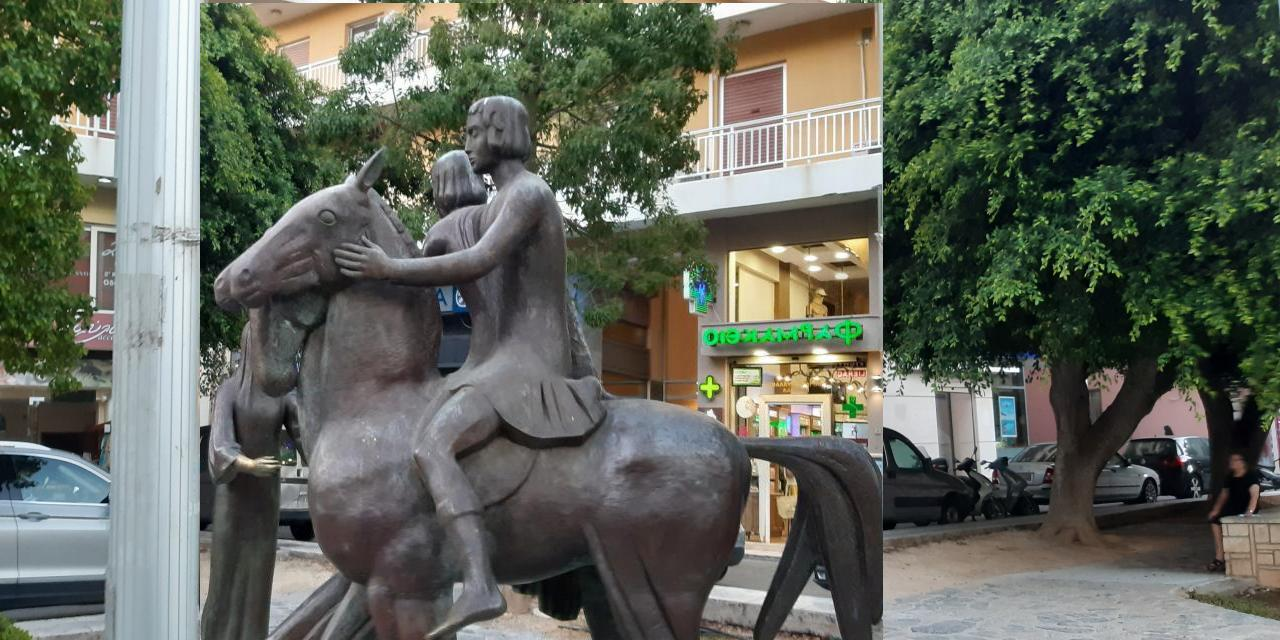Aretousa: (201, 4, 884, 640)
